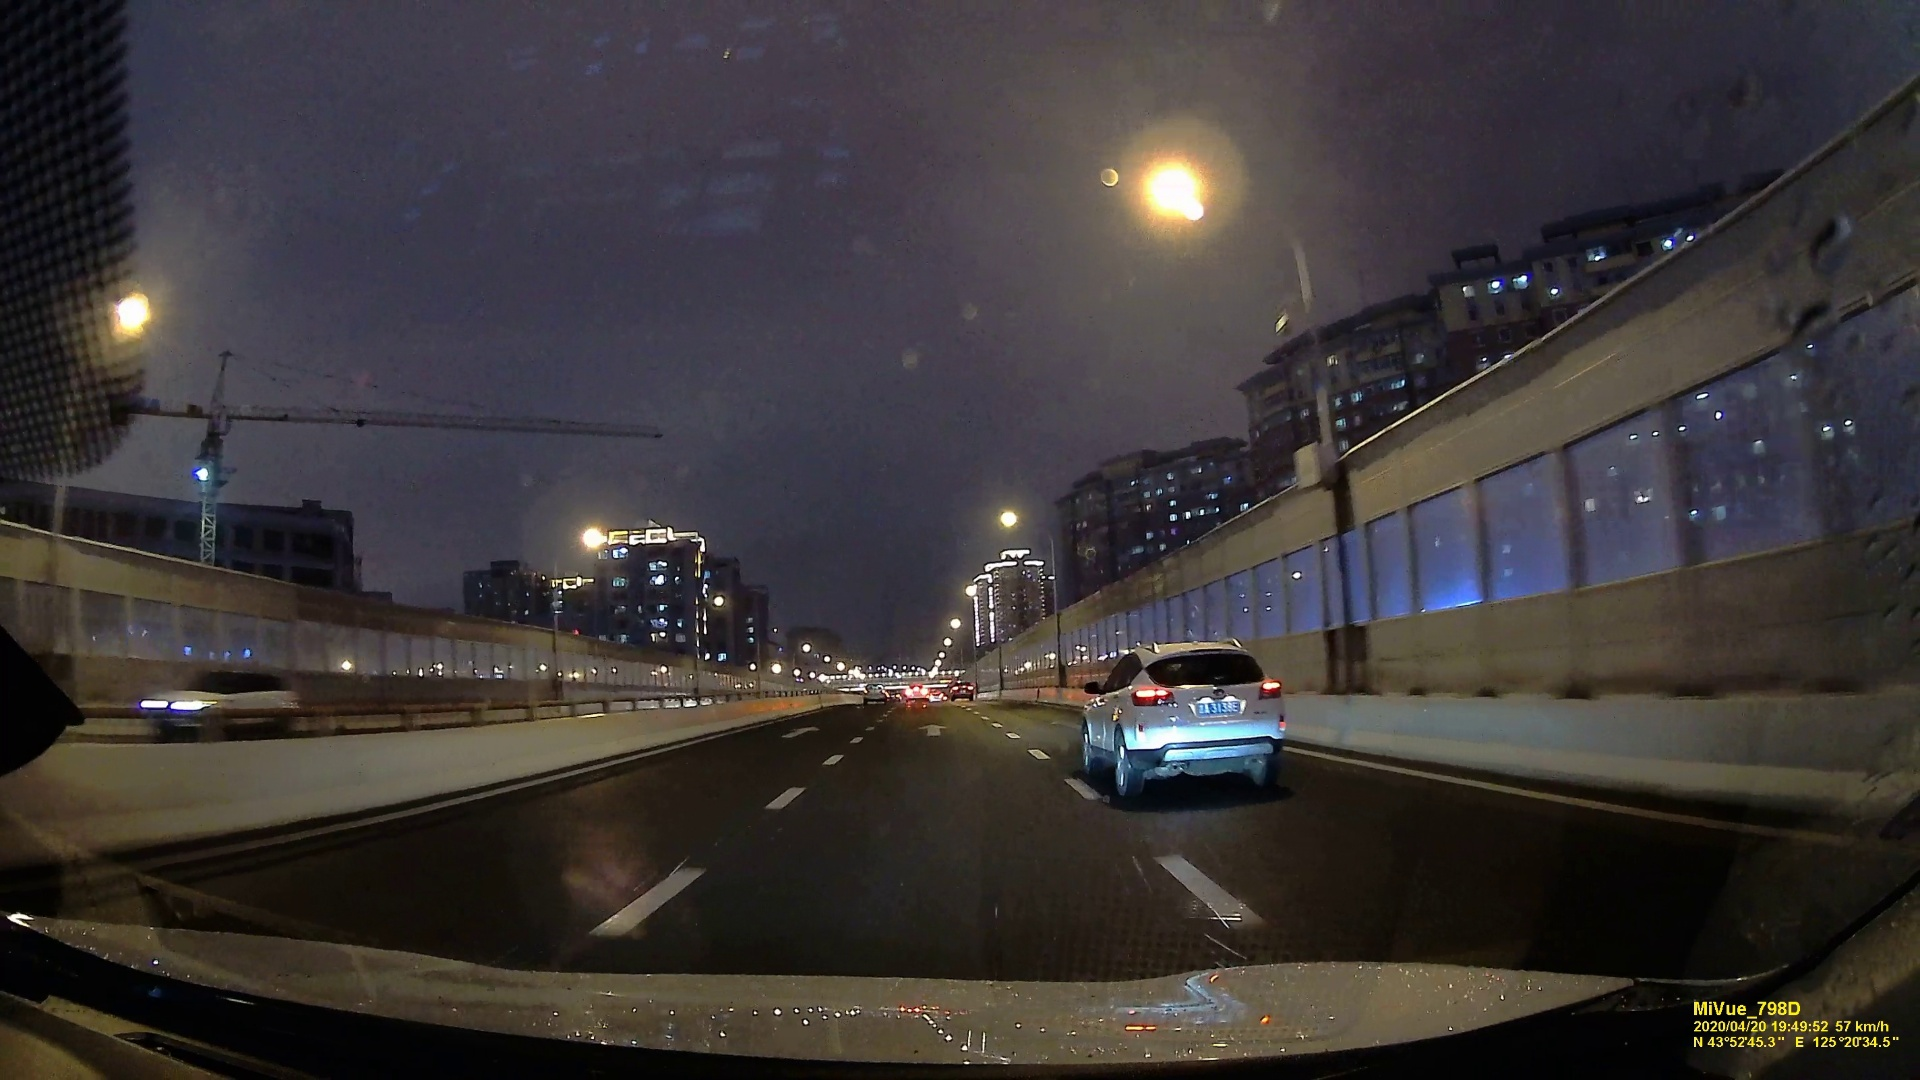vehicle: (1075, 636, 1288, 803), (138, 670, 291, 737), (949, 680, 975, 702), (905, 684, 930, 704), (862, 682, 886, 702)
